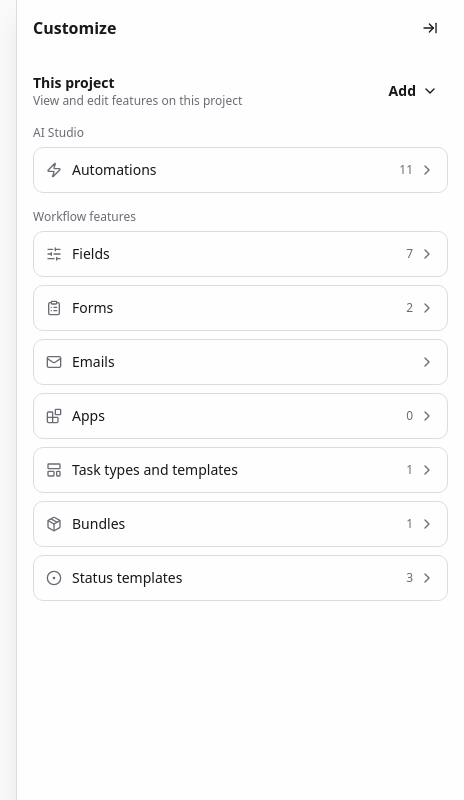
Test: CustomizePanel › opens the Fields section and comes back
Click the button "Fields 7" at (91, 254), box [33,231,448,277]
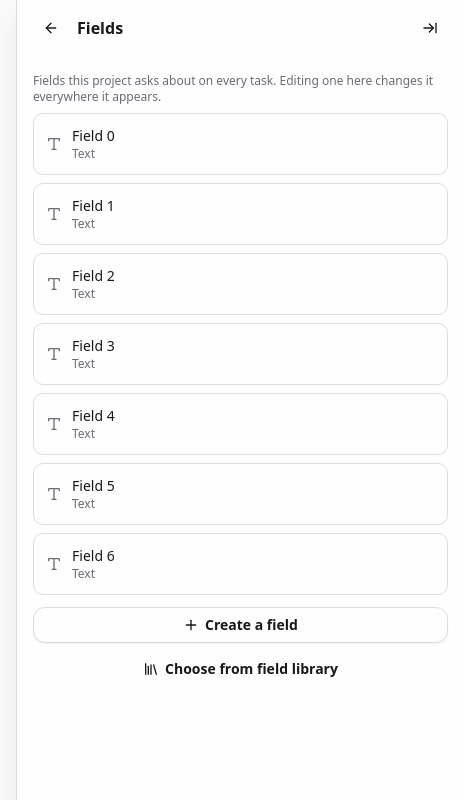
Check: the heading "Fields" is shown, box [77,16,123,40]
Check: the text "Field 0" is shown, box [72,126,115,145]
Click the button named "Back to customize" at (51, 28), box [33,10,69,46]
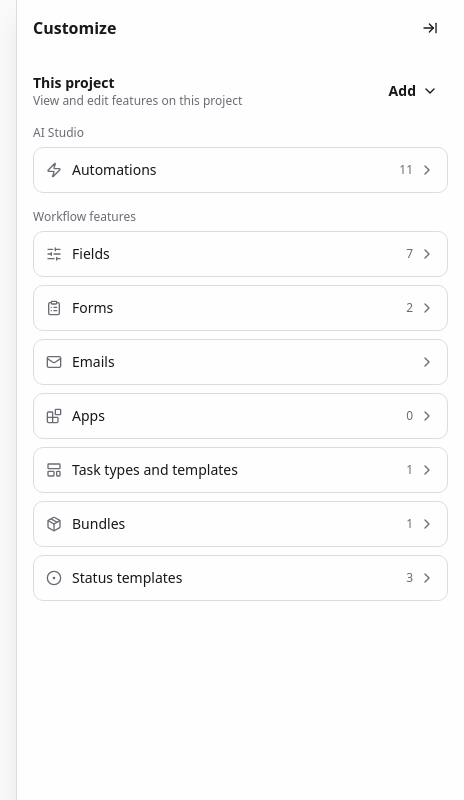
Check: the heading "Customize" is shown, box [33,16,116,40]
